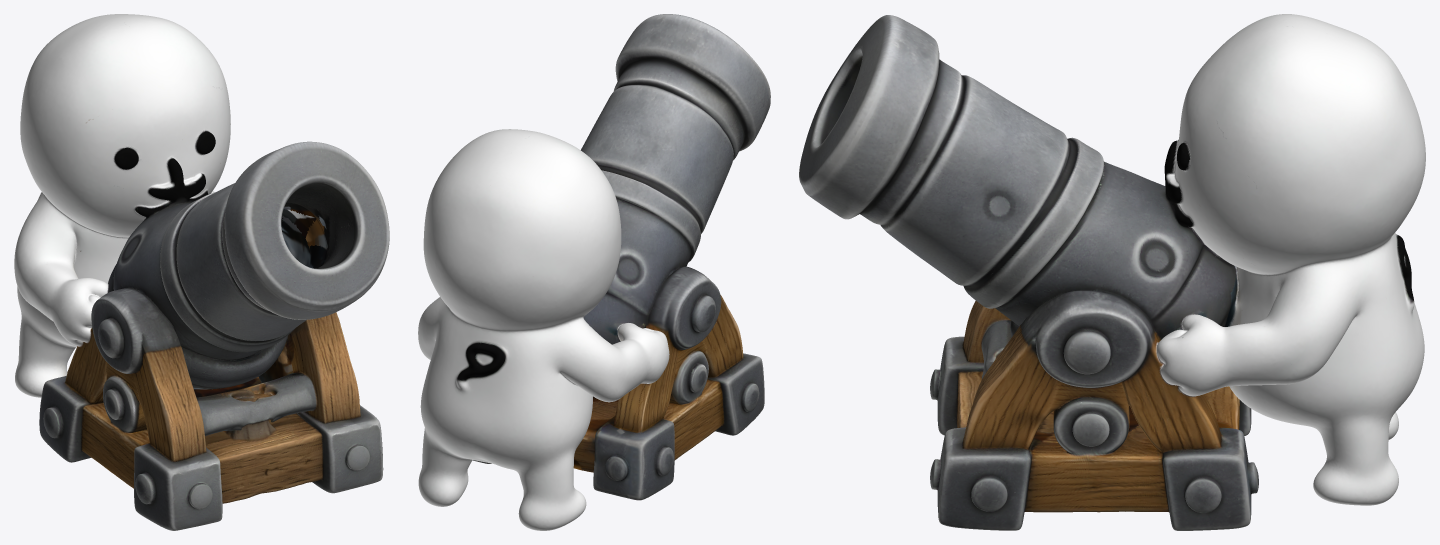
The model's file is Canon.glb.
3 views of the same model, side by side, from view 1: azimuth 30°, elevation 25°; view 2: azimuth 150°, elevation 25°; view 3: azimuth 270°, elevation 25° (orthographic). The views are drawn at different scales.
Bounding box in the file's own units: 0.9588 × 1.49 × 1.9.
1 material, 1 textured.
